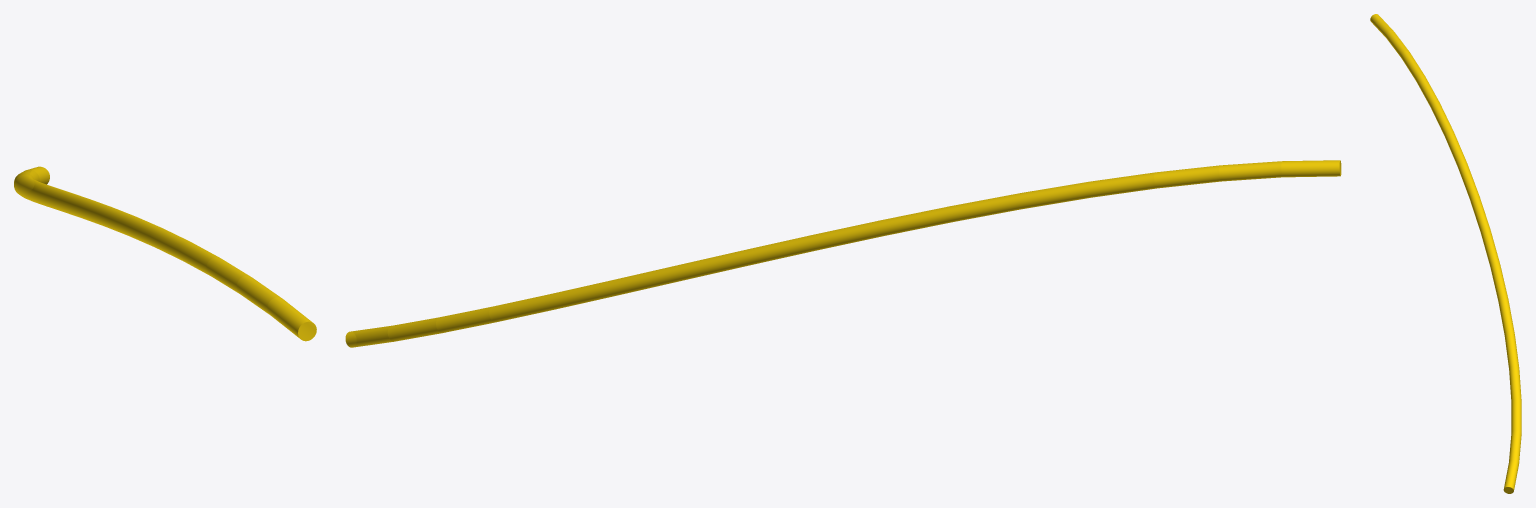
Rendered from Event_421115418_track_135.fbx.
3 renders of one model, left to right at view 1: azimuth 90°, elevation 25°; view 2: azimuth 150°, elevation 25°; view 3: azimuth 270°, elevation 25°, orthographic. The views are drawn at different scales.
Visible parts, largest first — view 1: Model; view 2: Model; view 3: Model.
Part boxes in pixels (<box>): Model: <box>14,166,316,341</box>; Model: <box>345,160,1341,347</box>; Model: <box>1370,14,1521,493</box>.
Size of the model in its own units: 2.52 by 0.8787 by 0.5843.
